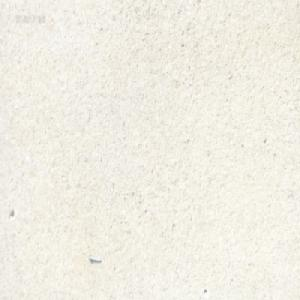Nail: (87, 253, 102, 262)
